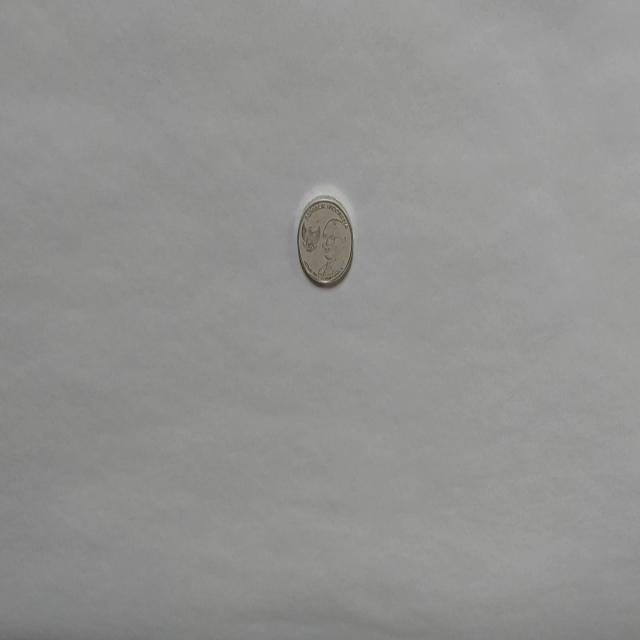lima ratus rupiah: (296, 194, 354, 288)
